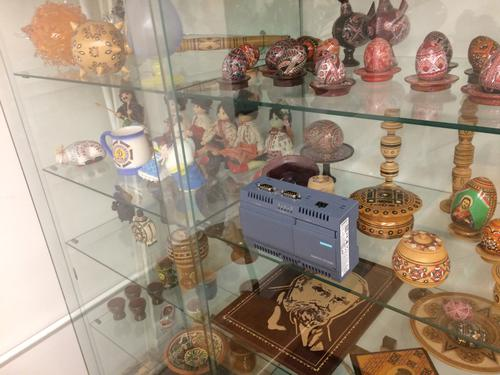iot2000: (238, 174, 359, 284)
